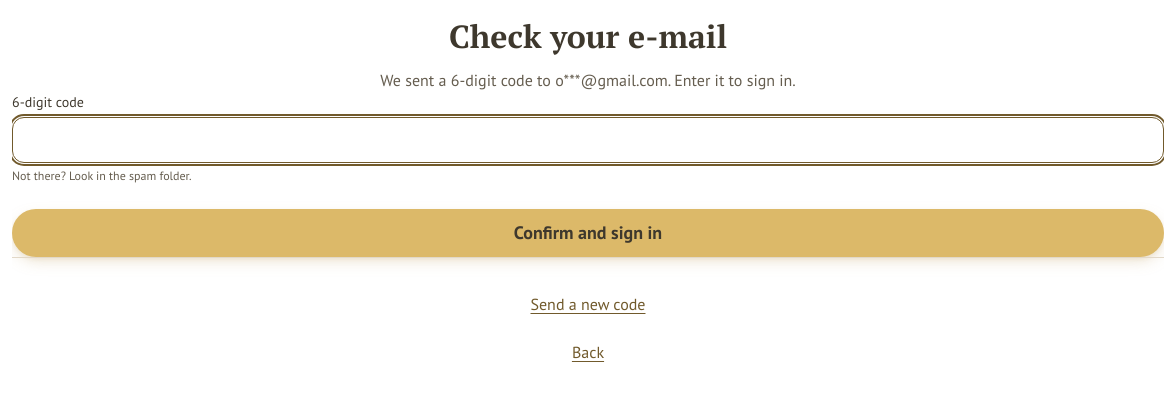
Test case: EmailCodeForm › asks for a new code, clears the field, says so and starts the wait again
This screenshot has width=1176, height=397.
Type "123456" into the field labelled "6-digit code". click: (588, 140)
box: 12,117 -> 1164,163
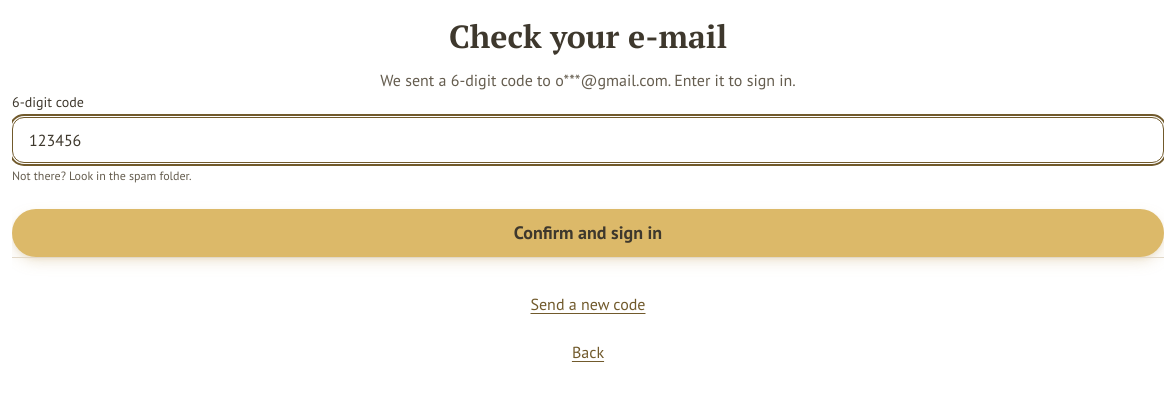
Click the button "Send a new code". click: (588, 304)
box: 522,282 -> 654,326
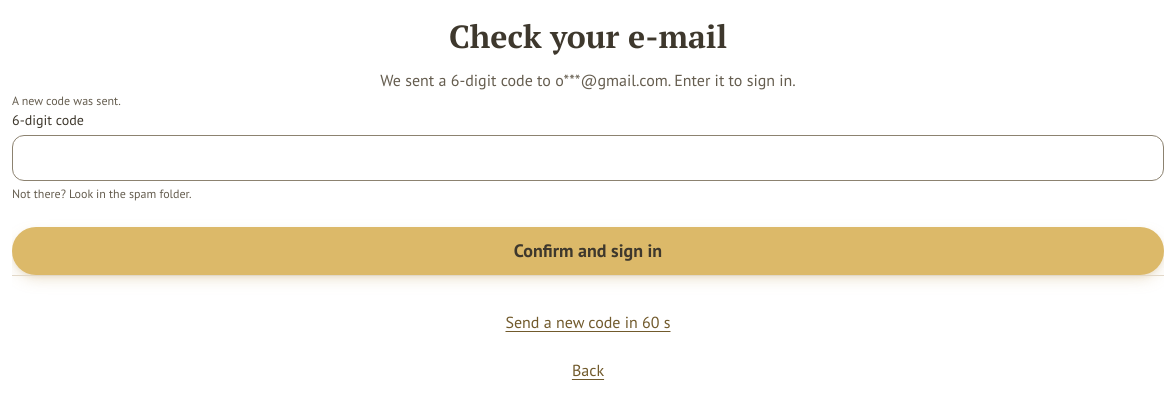
Expected: the message reads "A new code was sent.", 12,93 -> 121,108
Expected: the field labelled "6-digit code" is empty, 12,135 -> 1164,181
Expected: the button "Send a new code in 60 s" is disabled, 498,300 -> 678,344
